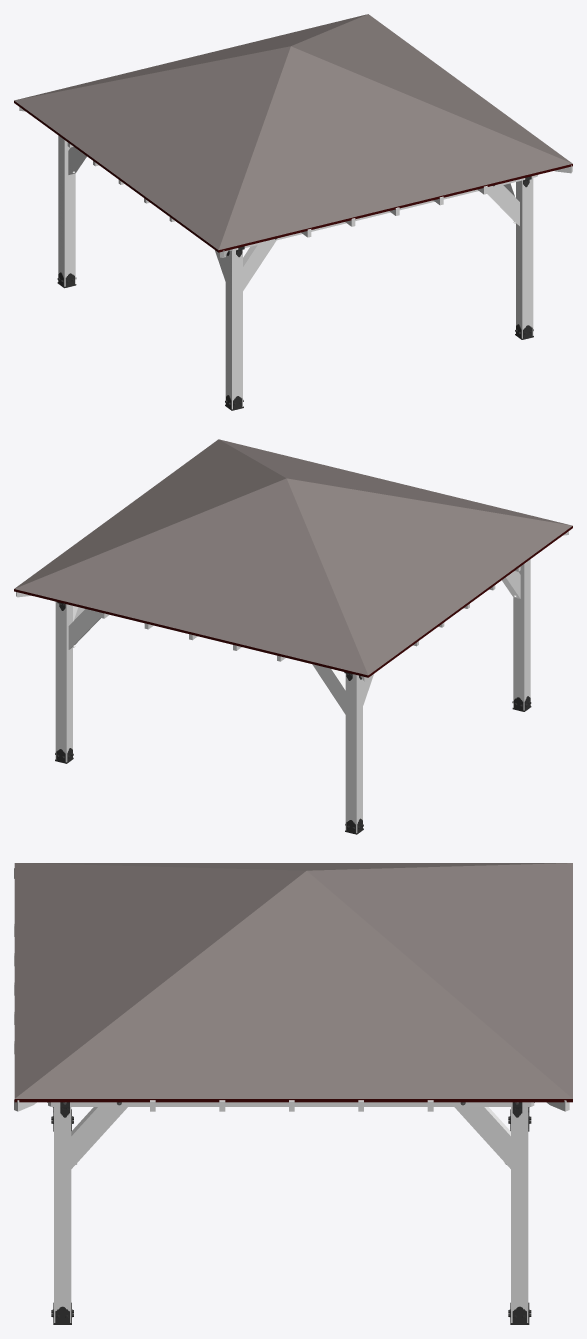
Rendered from saratoga-16x16-flush.obj.
3 views of the same model, one above another, from view 1: azimuth 30°, elevation 25°; view 2: azimuth 150°, elevation 25°; view 3: azimuth 270°, elevation 25° (orthographic). The views are drawn at different scales.
Parts seen in each view (by area): view 1: Mesh226 shingles roof Group1 Model, Mesh177 Group71 Component_92_4 Group2 Group1 Model, Mesh79 Group43 Component_92_2 Group2 Group1 Model, Mesh128 Group57 Component_92_3 Group2 Group1 Model, Mesh227 roof Group1 Model, Mesh217 Component_91_7 Component_92_4 Group2 Group1 Model, Mesh119 Component_91_3 Component_92_2 Group2 Group1 Model, Mesh75 Component_135_1 Group2 Group1 Model; view 2: Mesh226 shingles roof Group1 Model, Mesh128 Group57 Component_92_3 Group2 Group1 Model, Mesh1 Group4 Component_92_1 Group3 Group2 Group1 Model, Mesh177 Group71 Component_92_4 Group2 Group1 Model, Mesh227 roof Group1 Model, Mesh168 Component_91_5 Component_92_3 Group2 Group1 Model, Mesh41 Component_91_1 Component_92_1 Group3 Group2 Group1 Model; view 3: Mesh226 shingles roof Group1 Model, Mesh79 Group43 Component_92_2 Group2 Group1 Model, Mesh1 Group4 Component_92_1 Group3 Group2 Group1 Model, Mesh227 roof Group1 Model, Mesh78 Component_134_2 Group2 Group1 Model, Mesh123 Component_91_4 Component_92_2 Group2 Group1 Model, Mesh45 Component_91_2 Component_92_1 Group3 Group2 Group1 Model.
Boxes of the visible parts, x1=… form: Mesh226 shingles roof Group1 Model: x1=14, y1=14, x2=572, y2=250; Mesh177 Group71 Component_92_4 Group2 Group1 Model: x1=225, y1=249, x2=242, y2=409; Mesh79 Group43 Component_92_2 Group2 Group1 Model: x1=516, y1=178, x2=533, y2=338; Mesh128 Group57 Component_92_3 Group2 Group1 Model: x1=58, y1=135, x2=75, y2=286; Mesh227 roof Group1 Model: x1=14, y1=101, x2=572, y2=252; Mesh217 Component_91_7 Component_92_4 Group2 Group1 Model: x1=243, y1=240, x2=276, y2=290; Mesh119 Component_91_3 Component_92_2 Group2 Group1 Model: x1=487, y1=185, x2=519, y2=225; Mesh75 Component_135_1 Group2 Group1 Model: x1=229, y1=175, x2=537, y2=251; Mesh226 shingles roof Group1 Model: x1=14, y1=439, x2=572, y2=675; Mesh128 Group57 Component_92_3 Group2 Group1 Model: x1=345, y1=673, x2=362, y2=833; Mesh1 Group4 Component_92_1 Group3 Group2 Group1 Model: x1=55, y1=602, x2=72, y2=762; Mesh177 Group71 Component_92_4 Group2 Group1 Model: x1=513, y1=559, x2=530, y2=710; Mesh227 roof Group1 Model: x1=14, y1=526, x2=572, y2=677; Mesh168 Component_91_5 Component_92_3 Group2 Group1 Model: x1=312, y1=664, x2=345, y2=714; Mesh41 Component_91_1 Component_92_1 Group3 Group2 Group1 Model: x1=68, y1=609, x2=100, y2=649; Mesh226 shingles roof Group1 Model: x1=14, y1=863, x2=572, y2=1098; Mesh79 Group43 Component_92_2 Group2 Group1 Model: x1=54, y1=1107, x2=71, y2=1322; Mesh1 Group4 Component_92_1 Group3 Group2 Group1 Model: x1=511, y1=1107, x2=528, y2=1322; Mesh227 roof Group1 Model: x1=14, y1=1099, x2=572, y2=1102; Mesh78 Component_134_2 Group2 Group1 Model: x1=59, y1=1102, x2=522, y2=1106; Mesh123 Component_91_4 Component_92_2 Group2 Group1 Model: x1=71, y1=1107, x2=127, y2=1168; Mesh45 Component_91_2 Component_92_1 Group3 Group2 Group1 Model: x1=454, y1=1107, x2=510, y2=1168.
Bounding box in the file's own units: 193 × 135 × 193.
